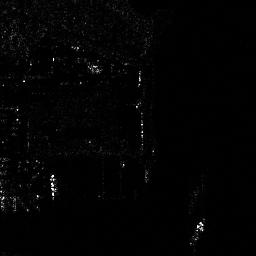ship: (49, 174, 58, 200)
